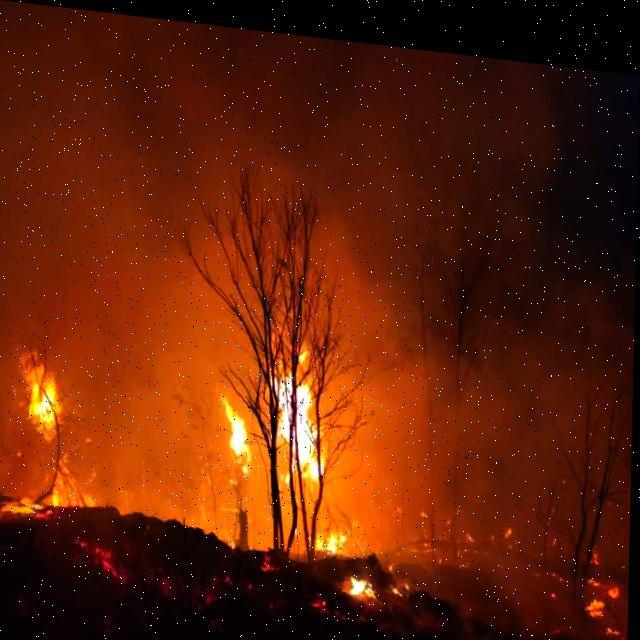Fire: (272, 352, 335, 476), (585, 534, 625, 623), (222, 382, 255, 472), (25, 368, 64, 433), (315, 516, 352, 555), (350, 565, 380, 591)
